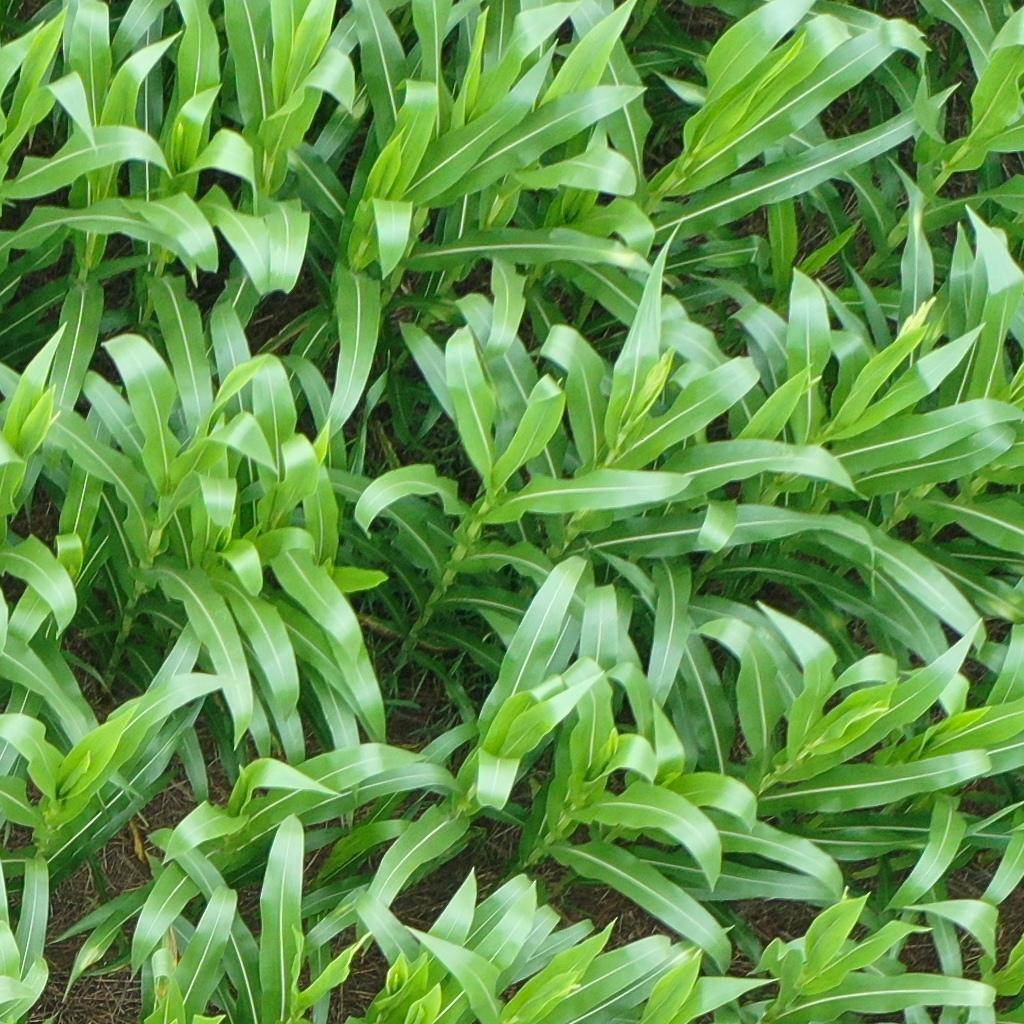Tassel: (634, 348, 671, 417), (898, 294, 936, 337), (852, 697, 892, 725)
